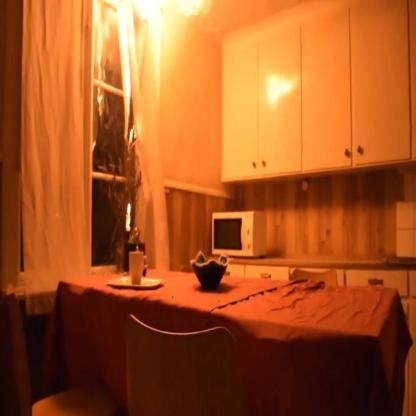fire: (97, 0, 221, 53), (127, 200, 132, 216)
